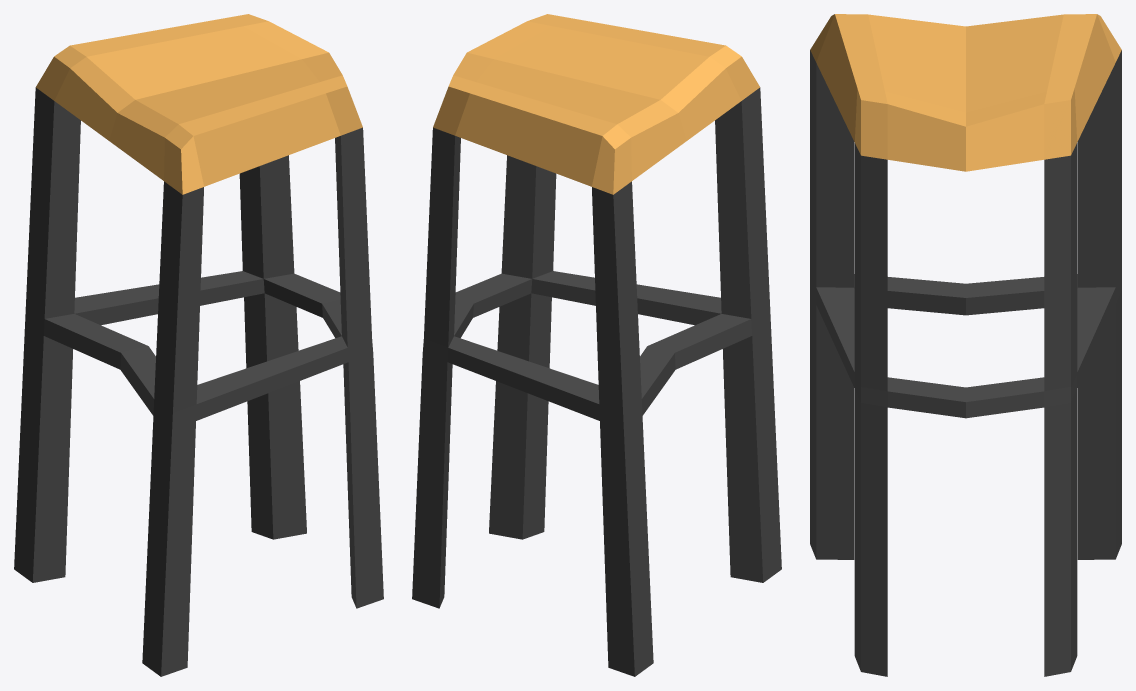
The model's file is barstool.fbx.
The picture shows the model from 3 angles, left to right: view 1: azimuth 30°, elevation 25°; view 2: azimuth 150°, elevation 25°; view 3: azimuth 270°, elevation 25°; orthographic projection. The views are drawn at different scales.
Visible parts, largest first — view 1: Cube; view 2: Cube; view 3: Cube.
Boxes of the visible parts, x1=… form: Cube: x1=14, y1=14, x2=383, y2=676; Cube: x1=412, y1=14, x2=781, y2=676; Cube: x1=810, y1=14, x2=1121, y2=676.
Size of the model in its own units: 120 by 227 by 116.
